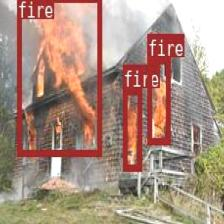fire: (16, 0, 100, 154), (146, 57, 170, 144), (122, 87, 141, 169)
